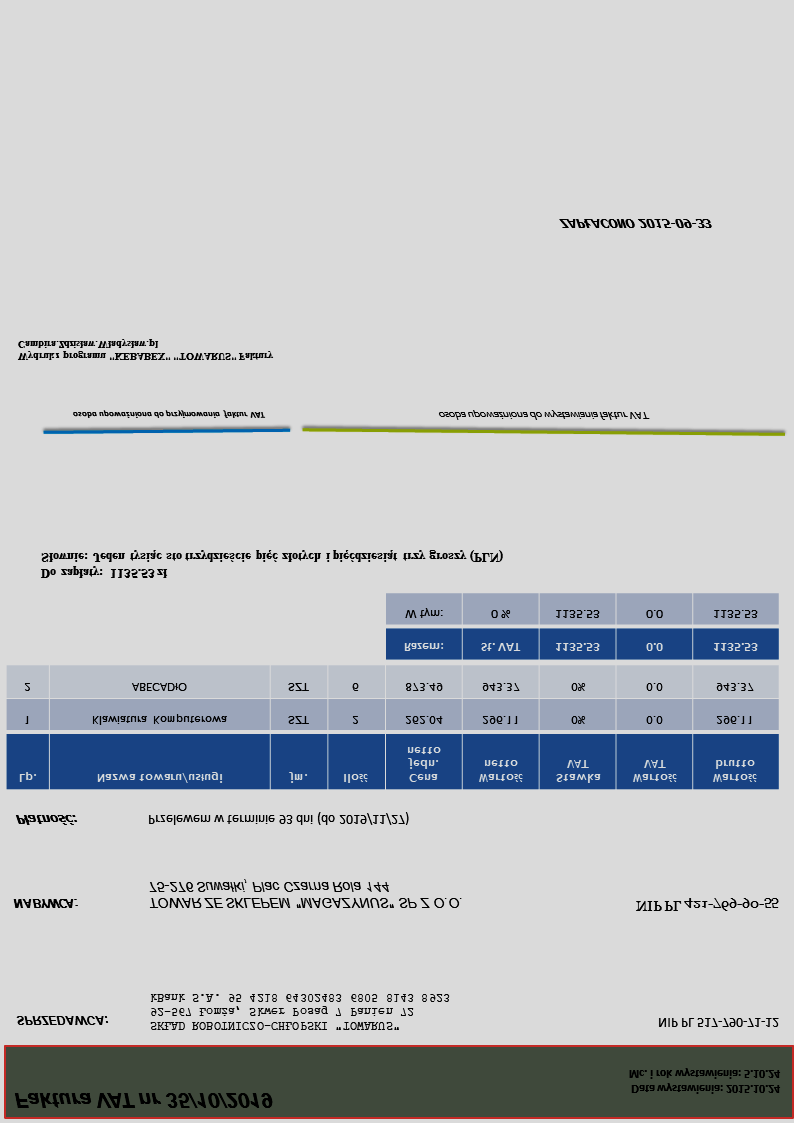Table: (5, 664, 780, 791), (384, 592, 781, 662)
TextBox: (37, 547, 507, 583), (147, 991, 451, 1034), (146, 878, 468, 912), (14, 337, 277, 364), (12, 1089, 275, 1112), (626, 1067, 783, 1096), (146, 812, 409, 828), (436, 409, 653, 423), (634, 895, 781, 915), (557, 216, 713, 233), (70, 409, 267, 421), (655, 1014, 781, 1032), (14, 1012, 110, 1029), (11, 895, 78, 912), (14, 812, 79, 828)
